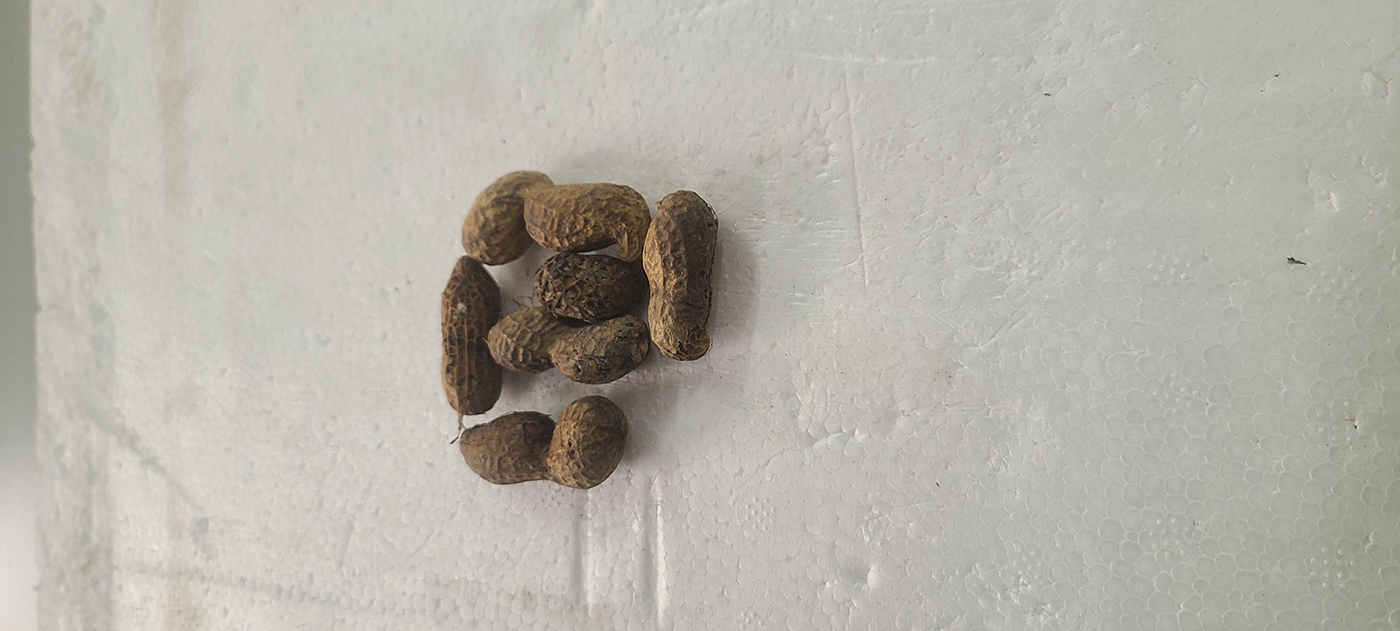l: (452, 167, 650, 264), (460, 397, 628, 489), (489, 307, 649, 384), (645, 192, 717, 362), (439, 256, 503, 411), (532, 254, 646, 323)
